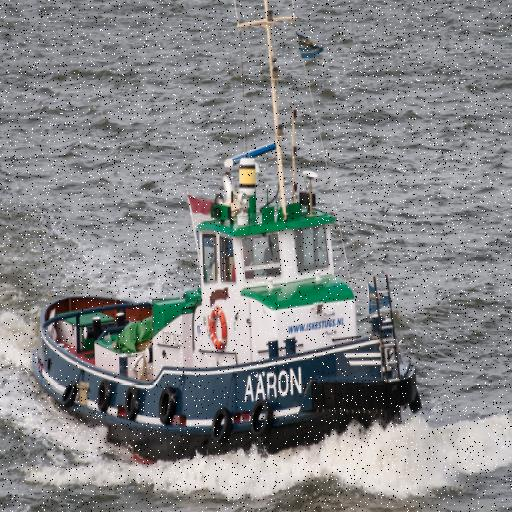tugboat: (29, 139, 429, 478)
